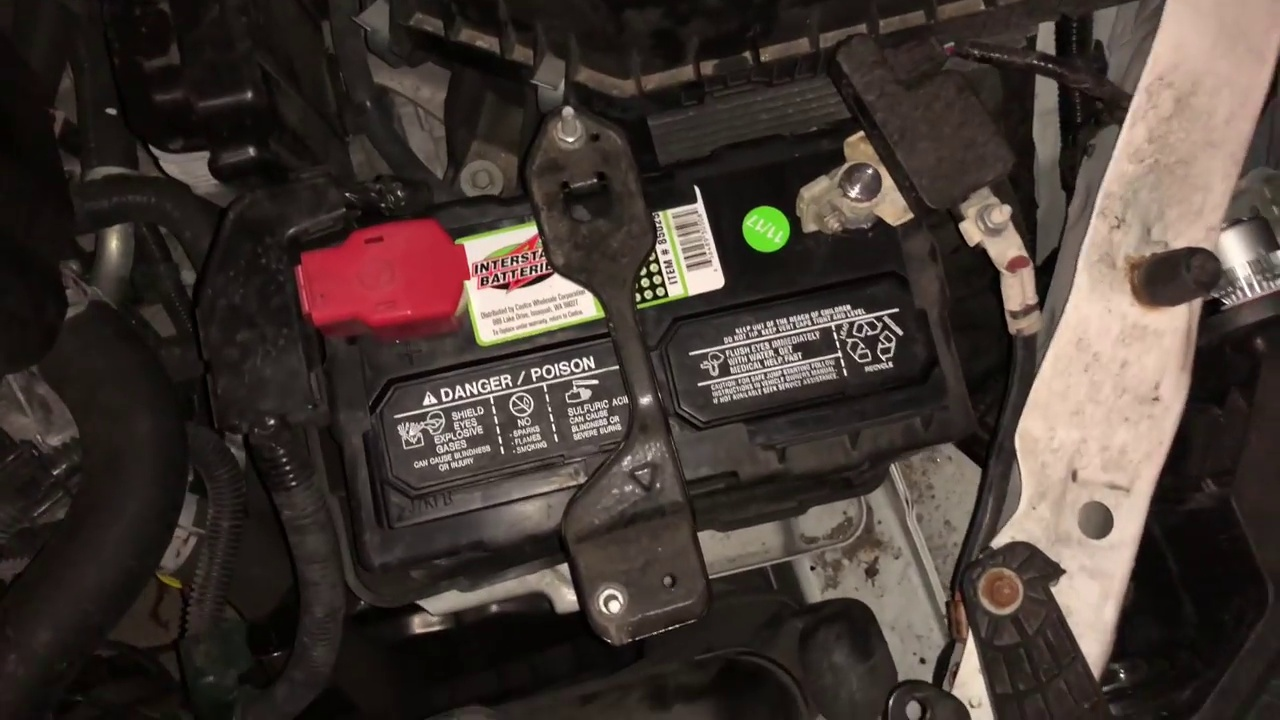battery: (312, 136, 967, 541)
neg_connected: (794, 118, 905, 258)
pos_connected: (278, 196, 471, 339)
